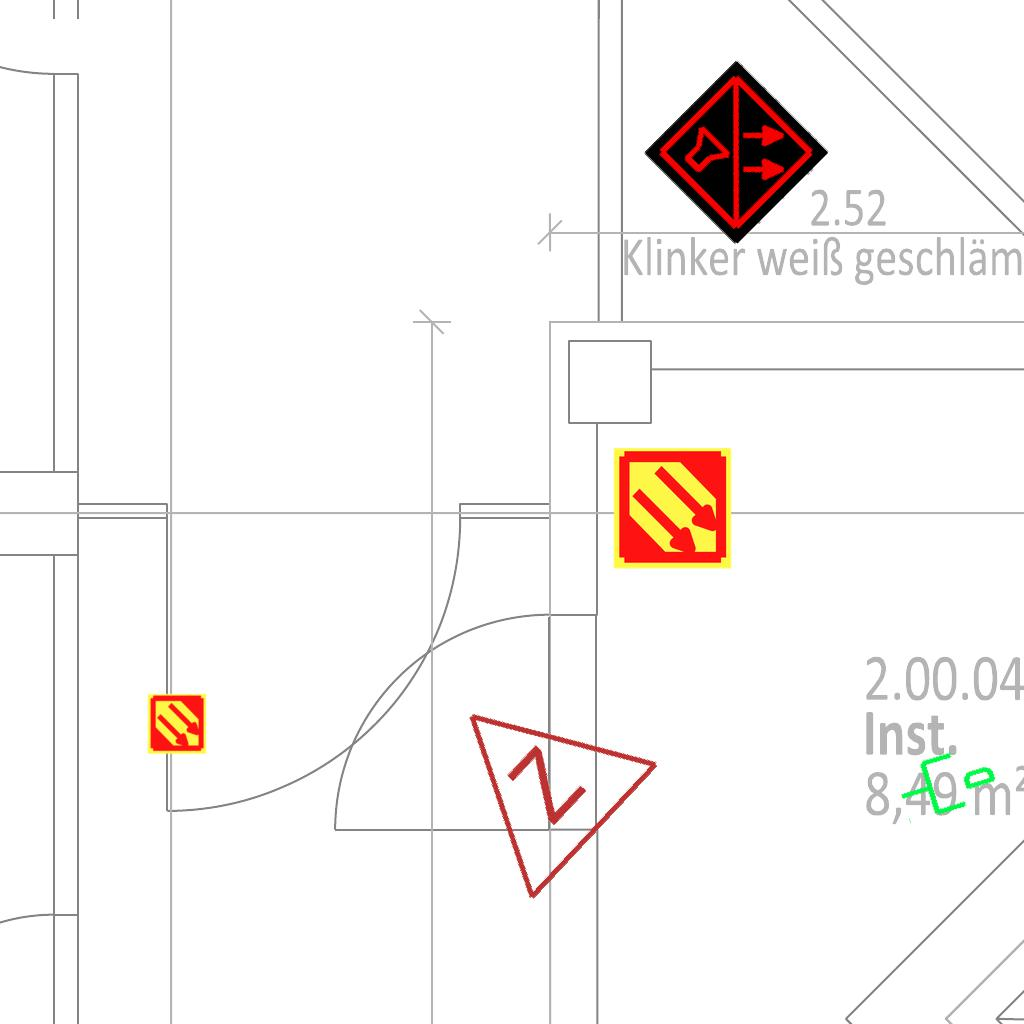ASR_Ansaugrauchmelder: (610, 446, 735, 571), (146, 693, 208, 755)
Datenanschluss_einfach: (888, 733, 1005, 829)
OKW_Multisensormelder_(Kombination_optischer_Rauch-Kahlenmonoxid_Waerme-Melder): (643, 59, 831, 247)
Zimmersignalleuchte: (392, 636, 672, 916)
